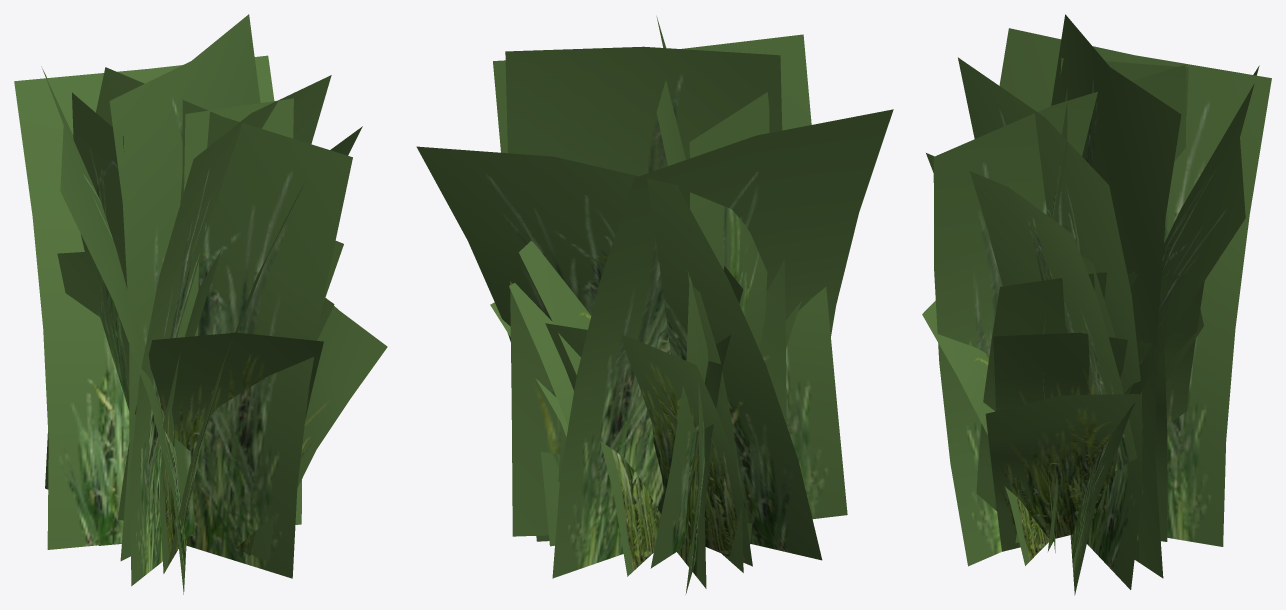
File: Grass_04.fbx
3 views of the same model, side by side, from view 1: azimuth 30°, elevation 25°; view 2: azimuth 150°, elevation 25°; view 3: azimuth 270°, elevation 25° (orthographic). The views are drawn at different scales.
Visible parts, largest first — view 1: Grass_08; view 2: Grass_08; view 3: Grass_08.
Part boxes in pixels (x1,y1,x2,y2): Grass_08: (14,14,387,594); Grass_08: (416,16,893,594); Grass_08: (922,14,1271,595).
Bounding box in the file's own units: 67.46 × 91.81 × 60.03.
1 material, 1 textured.
